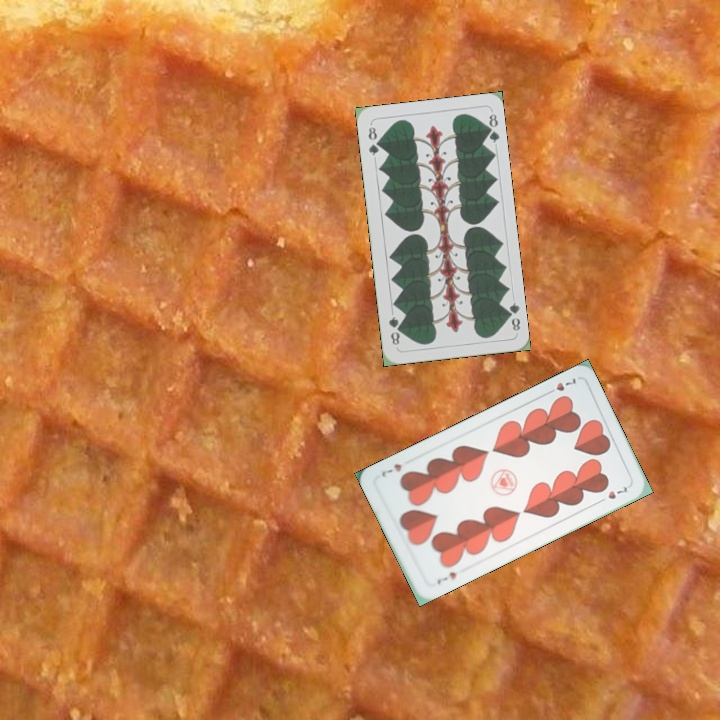G8: (502, 298, 523, 333), (364, 121, 382, 158)
H7: (542, 374, 580, 398), (433, 568, 459, 587)
